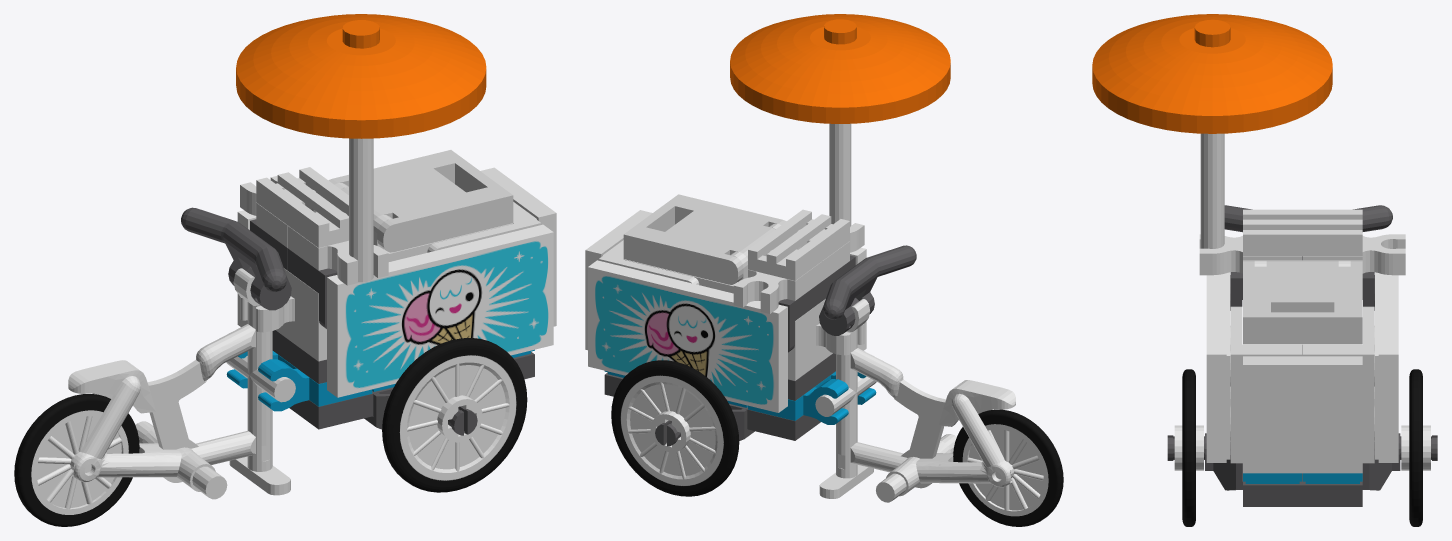
File: IceCream.FBX
3 views of the same model, side by side, from view 1: azimuth 30°, elevation 25°; view 2: azimuth 150°, elevation 25°; view 3: azimuth 270°, elevation 25° (orthographic). The views are drawn at different scales.
Visible parts, largest first — view 1: IceCream; view 2: IceCream; view 3: IceCream.
Part boxes in pixels (box(x1,y1,x2,y2)): IceCream: box(14, 14, 556, 526); IceCream: box(585, 14, 1063, 526); IceCream: box(1092, 14, 1437, 526).
Bounding box in the file's own units: 2.96 × 2.63 × 1.81.
Materials: 8 (3 with a texture image).
